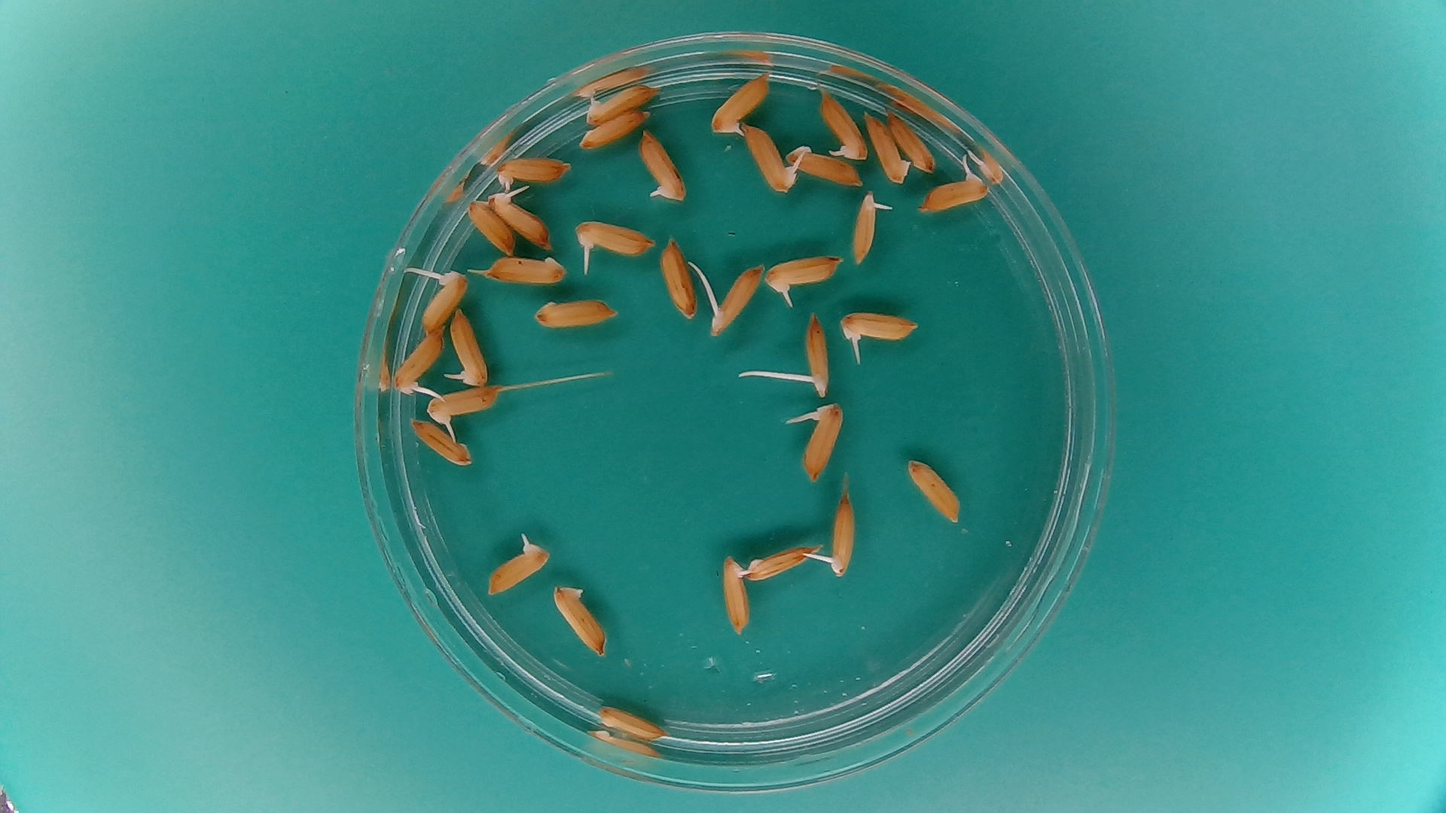no: (550, 580, 612, 659), (581, 79, 663, 125), (884, 108, 938, 177), (864, 108, 911, 186), (657, 236, 700, 321), (407, 417, 475, 468), (908, 457, 959, 523), (786, 146, 864, 188), (575, 108, 650, 151), (532, 294, 619, 331), (465, 196, 516, 255), (486, 251, 569, 287), (593, 702, 669, 741), (746, 544, 821, 583)
yes: (708, 262, 764, 336), (637, 126, 689, 205), (710, 71, 772, 136), (741, 123, 797, 193), (491, 190, 554, 251), (800, 400, 845, 480), (483, 541, 549, 595), (821, 94, 871, 163), (419, 269, 468, 335), (764, 256, 846, 294), (493, 151, 572, 190), (391, 333, 440, 394), (426, 386, 498, 427), (447, 311, 488, 382), (572, 221, 652, 257), (718, 551, 751, 637), (926, 171, 987, 215), (803, 312, 833, 400), (826, 491, 856, 577), (840, 312, 916, 343), (851, 189, 881, 267)
